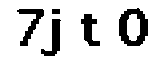0: (115, 4, 149, 51)
7: (13, 7, 45, 48)
j: (42, 7, 68, 60)
t: (77, 7, 103, 51)
